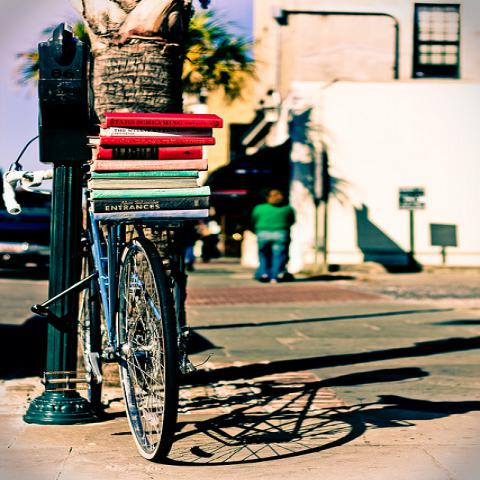car: (0, 203, 54, 275)
